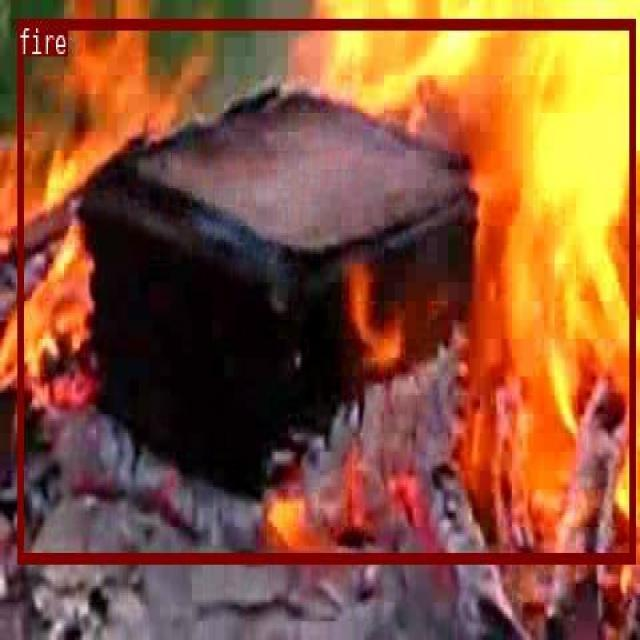fire: (17, 18, 634, 561)
